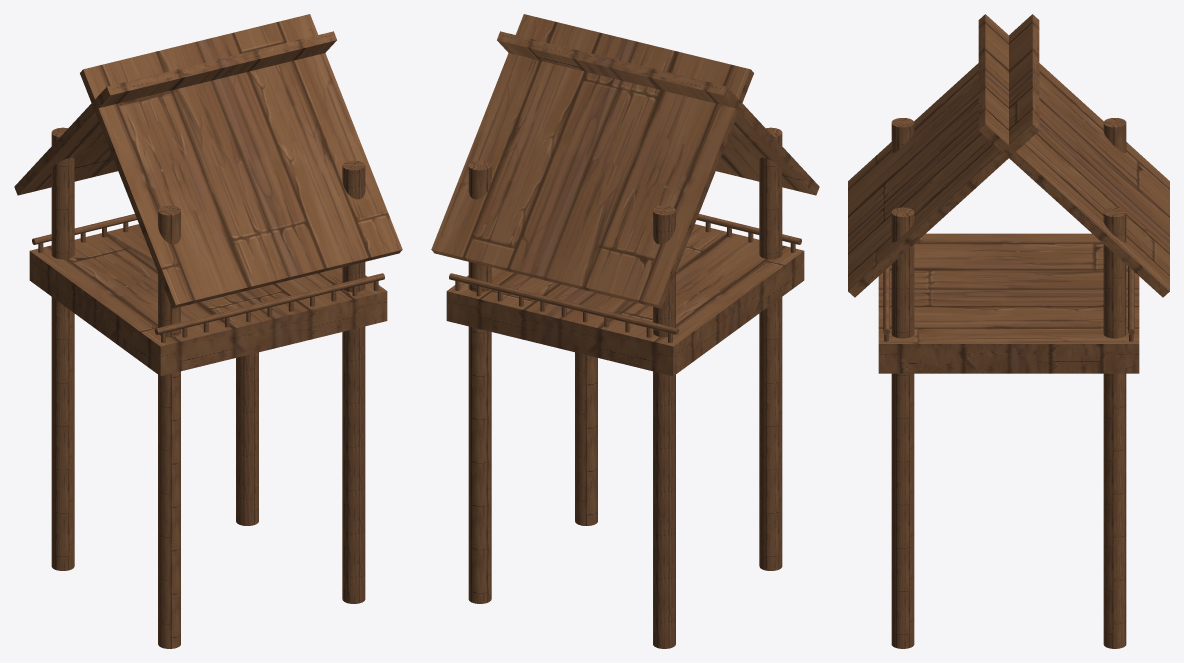
File: Roof16.fbx
The picture shows the model from 3 angles, left to right: view 1: azimuth 30°, elevation 25°; view 2: azimuth 150°, elevation 25°; view 3: azimuth 270°, elevation 25°; orthographic projection.
Visible parts, largest first — view 1: roof, pillar.000, Cylinder.001; view 2: roof, pillar.000, Cylinder.001; view 3: roof, Cylinder.001, pillar.000.
Boxes of the visible parts, x1,y1,x2,y2 form: roof: (14,14,402,308); pillar.000: (51,127,365,648); Cylinder.001: (29,214,387,376); roof: (431,14,819,308); pillar.000: (468,127,782,648); Cylinder.001: (446,214,804,376); roof: (848,14,1169,297); Cylinder.001: (878,233,1139,373); pillar.000: (891,118,1126,648).
Size of the model in its own units: 1600 by 3587 by 1974.
